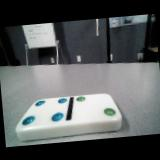domino: (15, 93, 121, 140)
